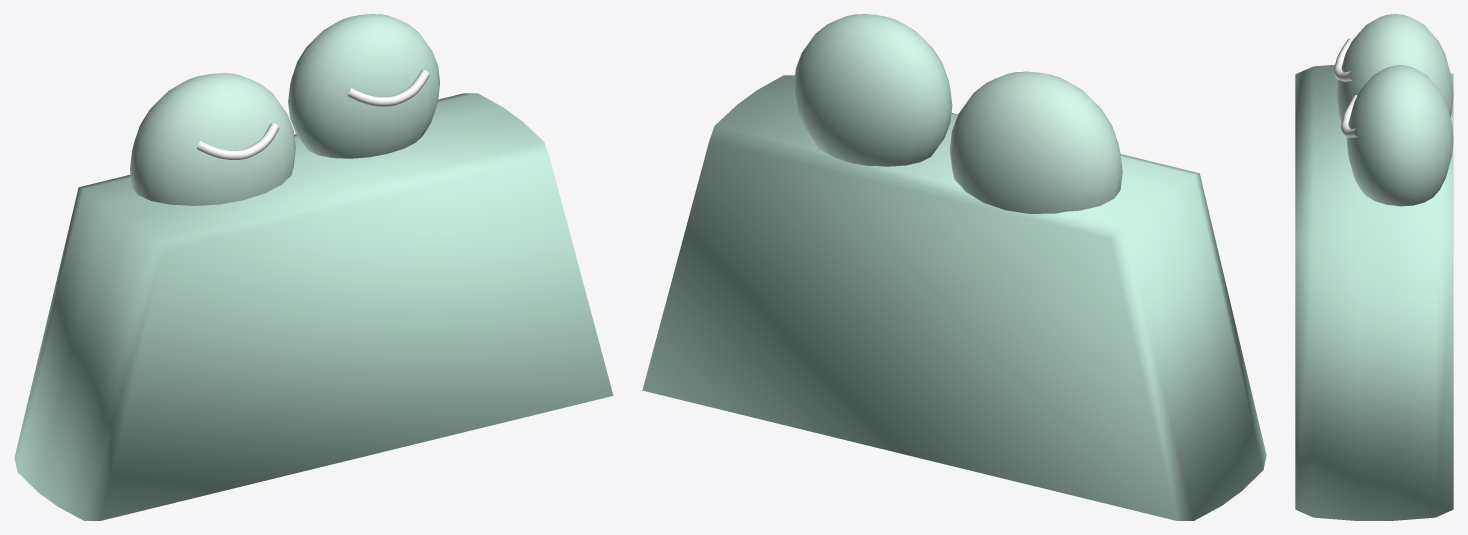
File: decor_4_mint.glb
The picture shows the model from 3 angles, left to right: view 1: azimuth 30°, elevation 25°; view 2: azimuth 150°, elevation 25°; view 3: azimuth 270°, elevation 25°; orthographic projection. The views are drawn at different scales.
Visible parts, largest first — view 1: decor_4_mint; view 2: decor_4_mint; view 3: decor_4_mint.
Boxes of the visible parts, bbox=[...] form: decor_4_mint: bbox=[14, 14, 613, 520]; decor_4_mint: bbox=[642, 14, 1266, 520]; decor_4_mint: bbox=[1295, 14, 1453, 520].
Bounding box in the file's own units: 8.3 × 5.81 × 2.33.
